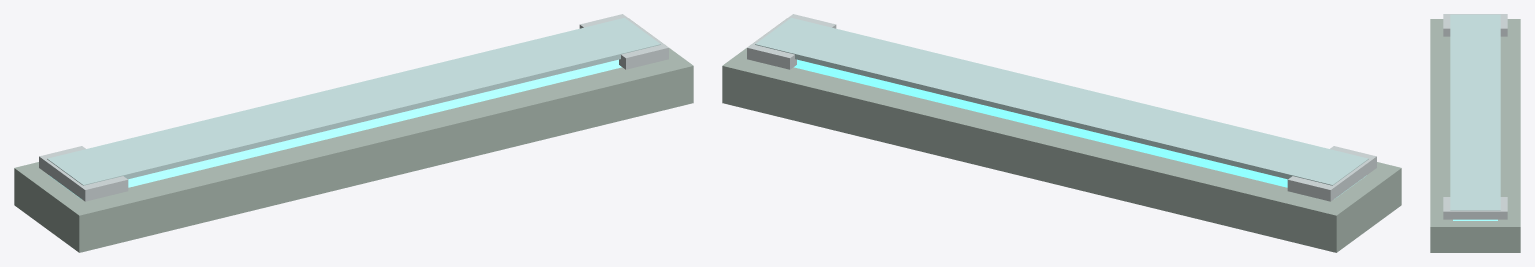
The model's file is s7-lf1-perimeter-straight-half.glb.
3 renders of one model, left to right at view 1: azimuth 30°, elevation 25°; view 2: azimuth 150°, elevation 25°; view 3: azimuth 270°, elevation 25°, orthographic. The views are drawn at different scales.
Parts seen in each view (by area): view 1: 000_waterproof_aluminium_housing, 002_optical_diffuser, 001_continuous_cyan_led_emitter, 003_retainer_bracket, 004_retainer_bracket; view 2: 000_waterproof_aluminium_housing, 002_optical_diffuser, 001_continuous_cyan_led_emitter, 003_retainer_bracket, 004_retainer_bracket; view 3: 000_waterproof_aluminium_housing, 002_optical_diffuser, 004_retainer_bracket, 003_retainer_bracket, 001_continuous_cyan_led_emitter.
Part boxes in pixels (x1=…): 000_waterproof_aluminium_housing: x1=14, y1=18, x2=693, y2=252; 002_optical_diffuser: x1=47, y1=18, x2=660, y2=185; 001_continuous_cyan_led_emitter: x1=49, y1=59, x2=621, y2=197; 003_retainer_bracket: x1=39, y1=146, x2=128, y2=201; 004_retainer_bracket: x1=579, y1=14, x2=668, y2=69; 000_waterproof_aluminium_housing: x1=722, y1=18, x2=1401, y2=252; 002_optical_diffuser: x1=755, y1=18, x2=1368, y2=185; 001_continuous_cyan_led_emitter: x1=794, y1=59, x2=1366, y2=197; 003_retainer_bracket: x1=1287, y1=146, x2=1376, y2=201; 004_retainer_bracket: x1=747, y1=14, x2=836, y2=69; 000_waterproof_aluminium_housing: x1=1430, y1=19, x2=1520, y2=252; 002_optical_diffuser: x1=1450, y1=14, x2=1500, y2=210; 004_retainer_bracket: x1=1443, y1=197, x2=1507, y2=219; 003_retainer_bracket: x1=1443, y1=14, x2=1507, y2=36; 001_continuous_cyan_led_emitter: x1=1453, y1=219, x2=1497, y2=220.
Size of the model in its own units: 0.5 by 0.041 by 0.092.
